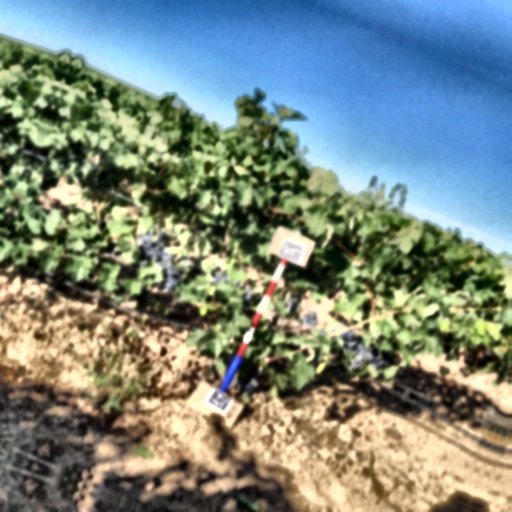QR: (208, 389, 234, 413), (280, 240, 305, 263)
